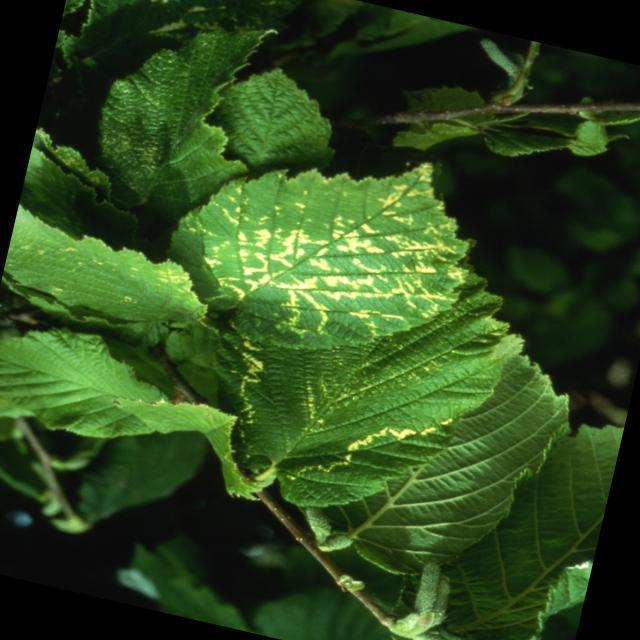Mosaic Virus: (195, 107, 462, 386)
